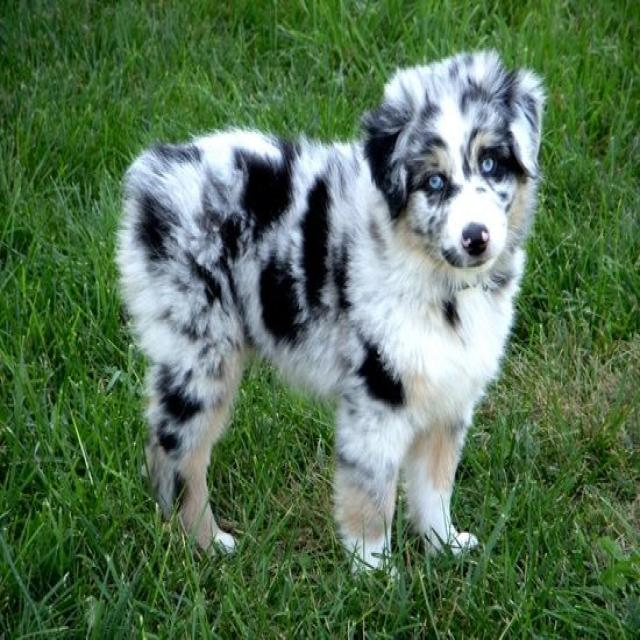dog: (325, 29, 573, 347)
